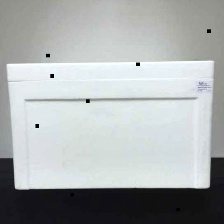foam_box: (1, 55, 217, 192)
